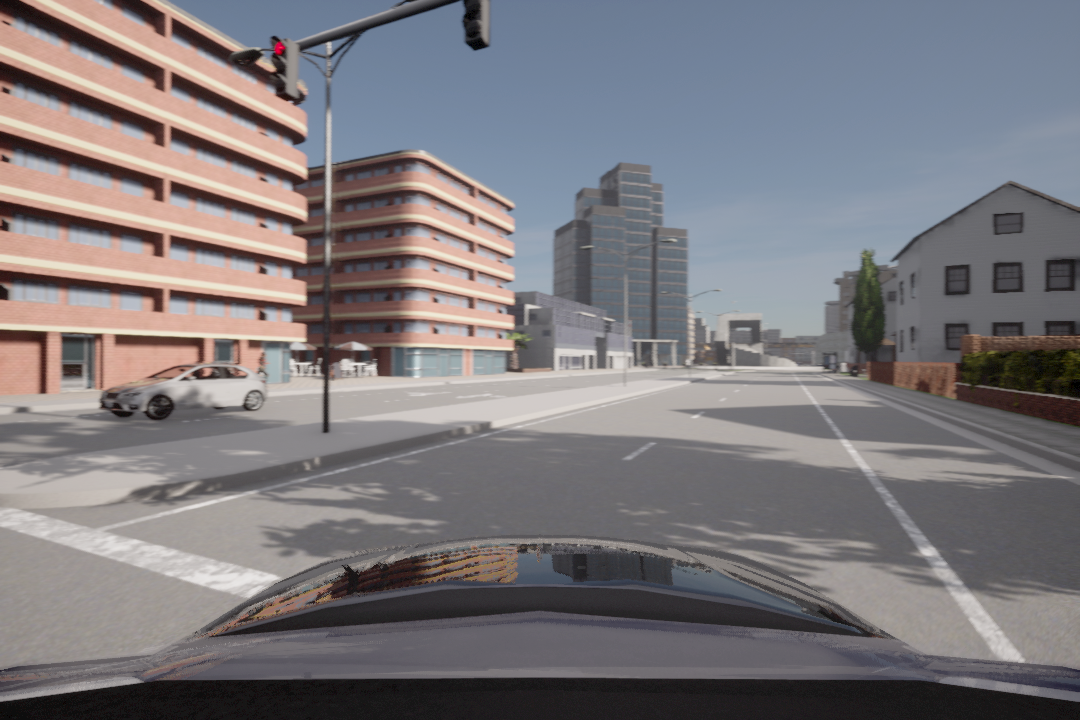TrafficLight: (271, 31, 301, 105)
